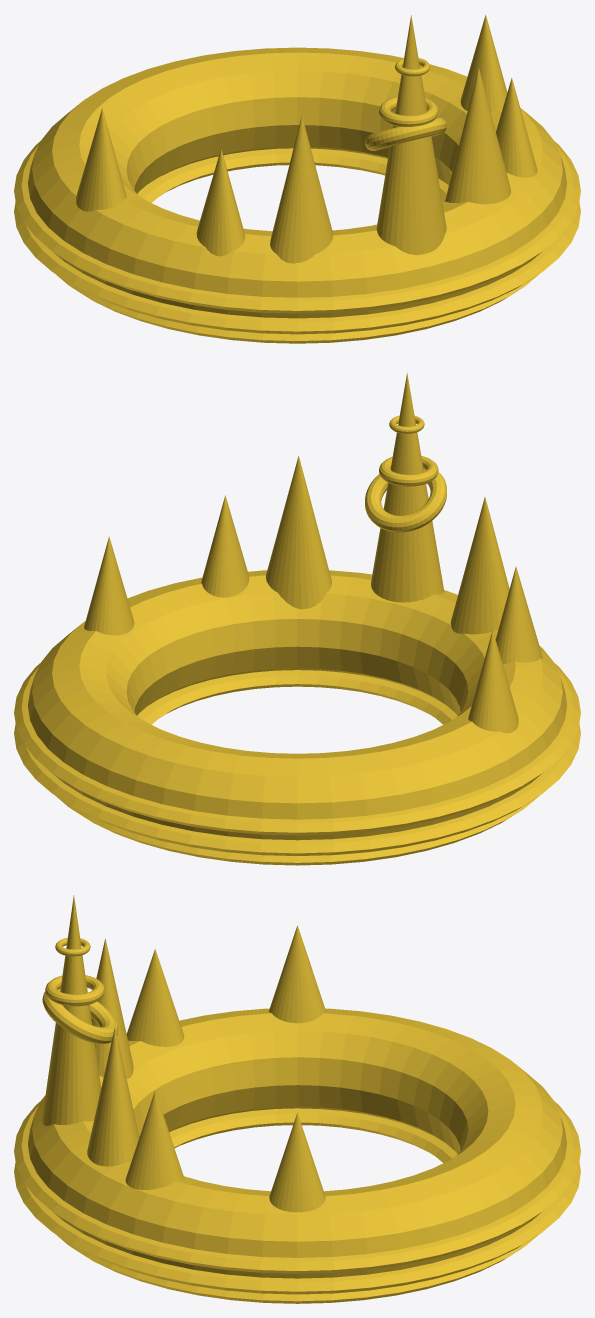
File: Ice King crown.fbx
3 views of the same model, one above another, from view 1: azimuth 30°, elevation 25°; view 2: azimuth 150°, elevation 25°; view 3: azimuth 270°, elevation 25° (orthographic).
Visible parts, largest first — view 1: Torus.002; view 2: Torus.002; view 3: Torus.002.
Boxes of the visible parts, bbox=[...] form: Torus.002: bbox=[14, 14, 580, 343]; Torus.002: bbox=[14, 373, 580, 865]; Torus.002: bbox=[14, 895, 580, 1303].
Bounding box in the file's own units: 299 × 181 × 299.
